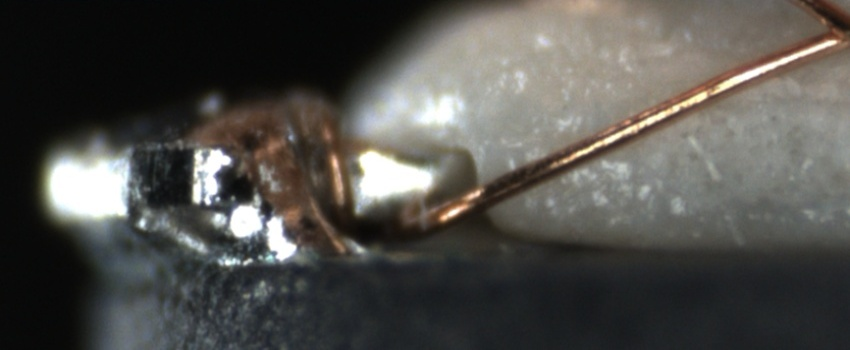CL: (793, 5, 849, 59)
DL: (722, 71, 846, 132)
TE: (305, 97, 356, 244)
